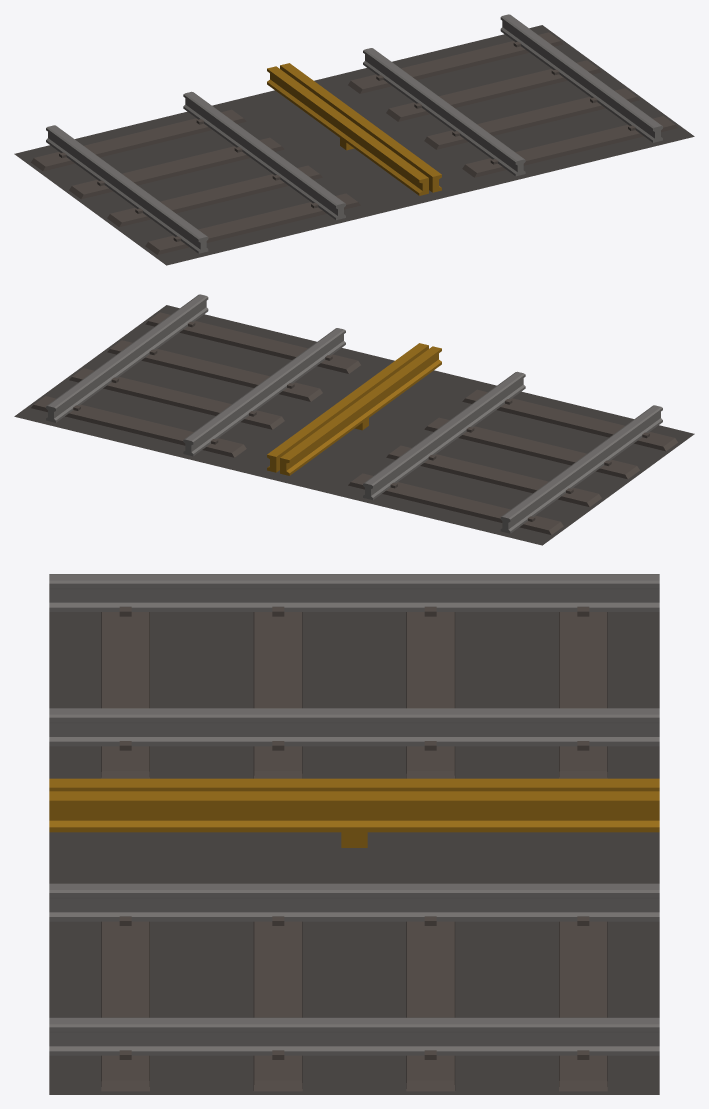
The model's file is SM_Train_Track_Underground_Double_Track.fbx.
3 renders of one model, top to bottom at view 1: azimuth 30°, elevation 25°; view 2: azimuth 150°, elevation 25°; view 3: azimuth 270°, elevation 25°, orthographic. The views are drawn at different scales.
Parts seen in each view (by area): view 1: SM_Train_Track_Underground_Double_Track; view 2: SM_Train_Track_Underground_Double_Track; view 3: SM_Train_Track_Underground_Double_Track.
Boxes of the visible parts, x1=… form: SM_Train_Track_Underground_Double_Track: x1=14, y1=14, x2=694, y2=265; SM_Train_Track_Underground_Double_Track: x1=14, y1=294, x2=694, y2=545; SM_Train_Track_Underground_Double_Track: x1=49, y1=574, x2=659, y2=1094.
Bounding box in the file's own units: 700 × 30 × 350.
